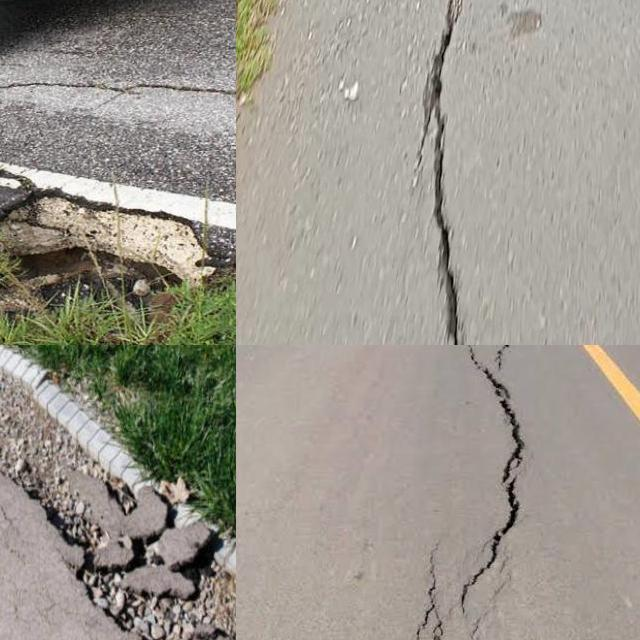Memanjang: (407, 345, 540, 640), (402, 0, 481, 345)
Pinggir: (0, 345, 236, 640), (0, 159, 236, 308)
